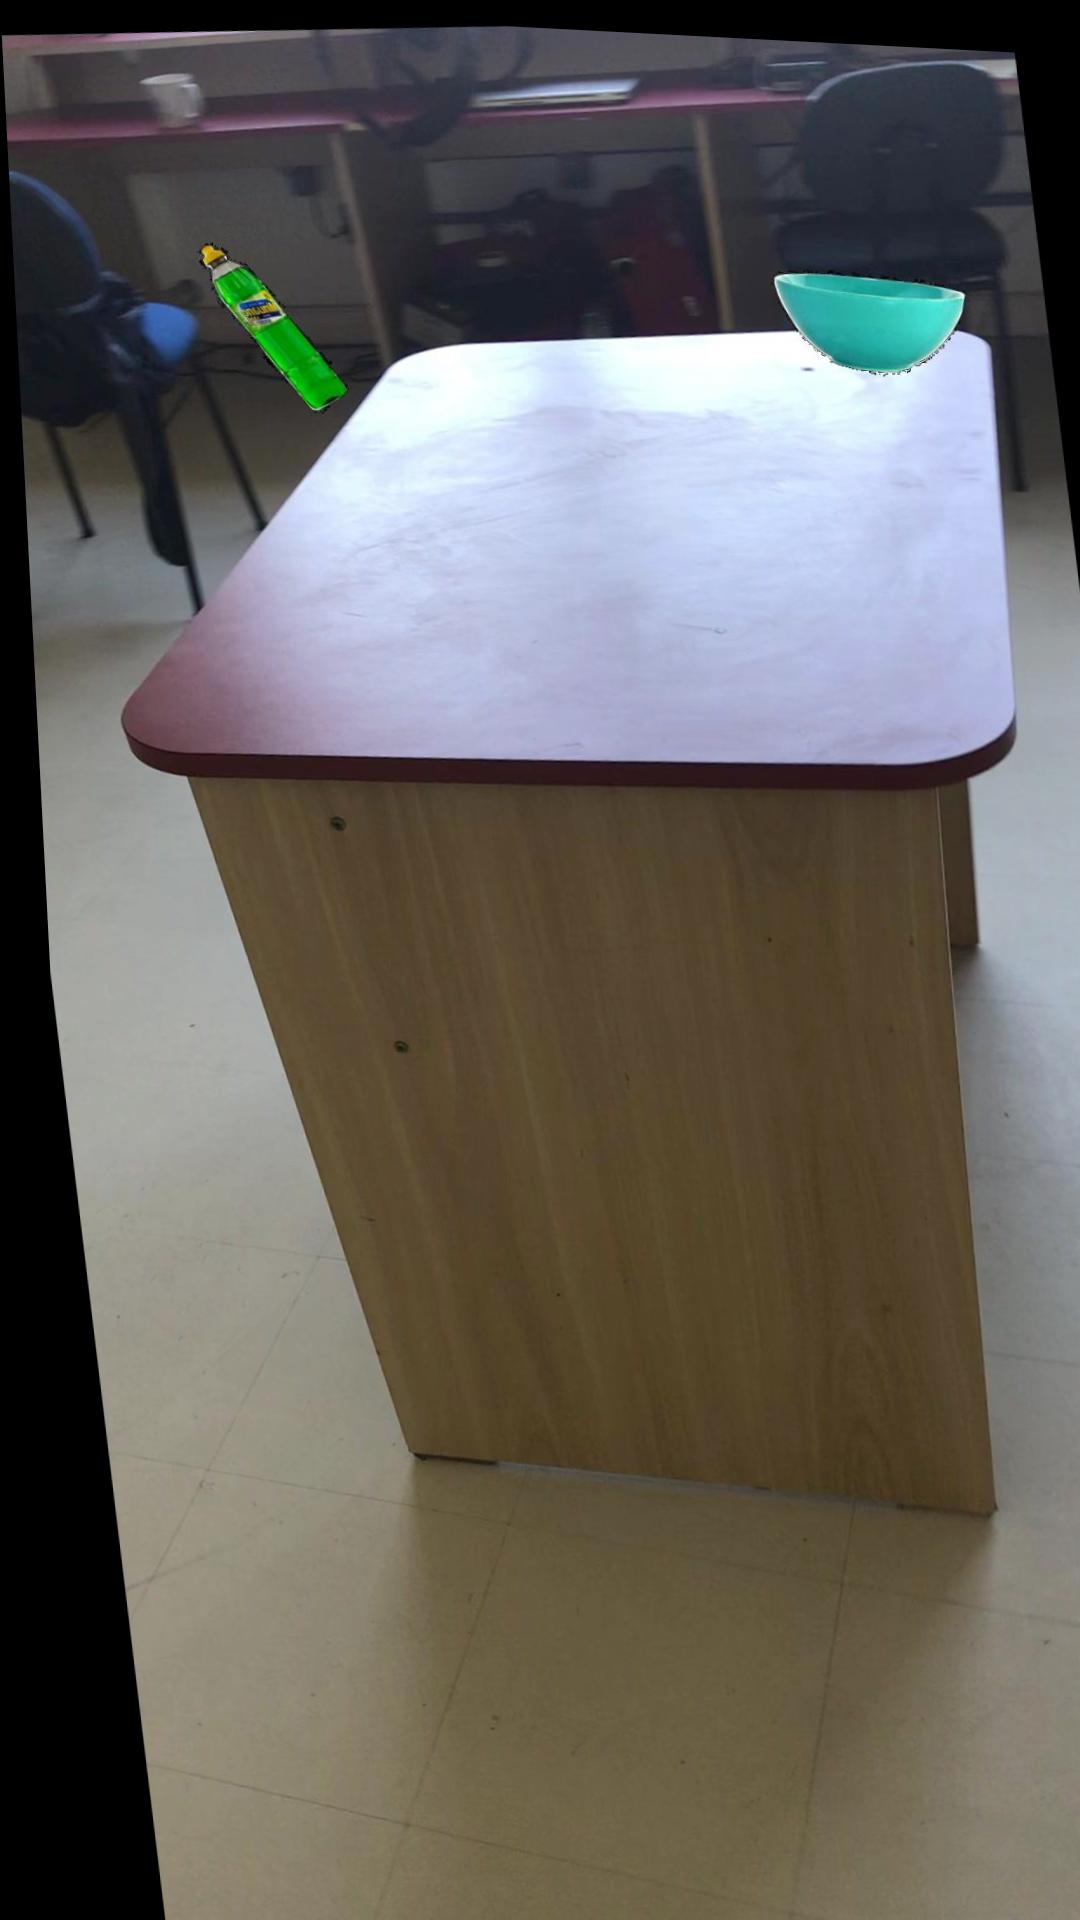bowl: (769, 260, 961, 361)
cleaner: (194, 239, 342, 409)
